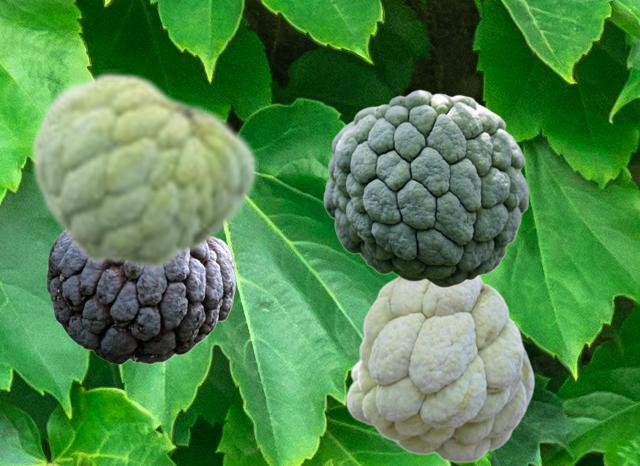atis: (28, 69, 257, 272), (323, 89, 528, 287), (345, 276, 534, 462), (46, 233, 235, 363)
